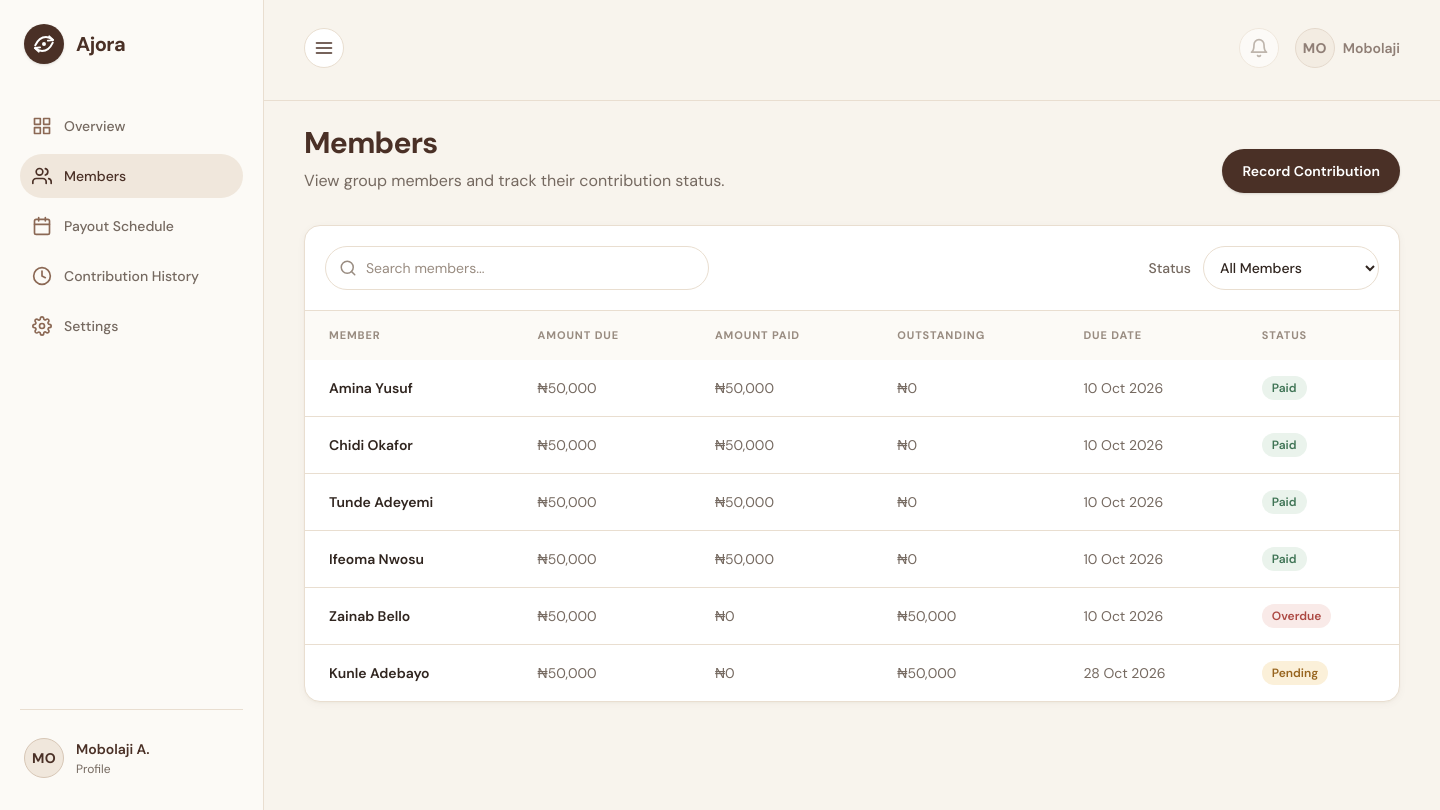
Test case: RecordContributionDialog keyboard accessibility › restores focus after the close button and successful contribution flow
This screenshot has width=1440, height=810.
Click the button "Record Contribution" at (1311, 171), box [1222, 149, 1400, 193]
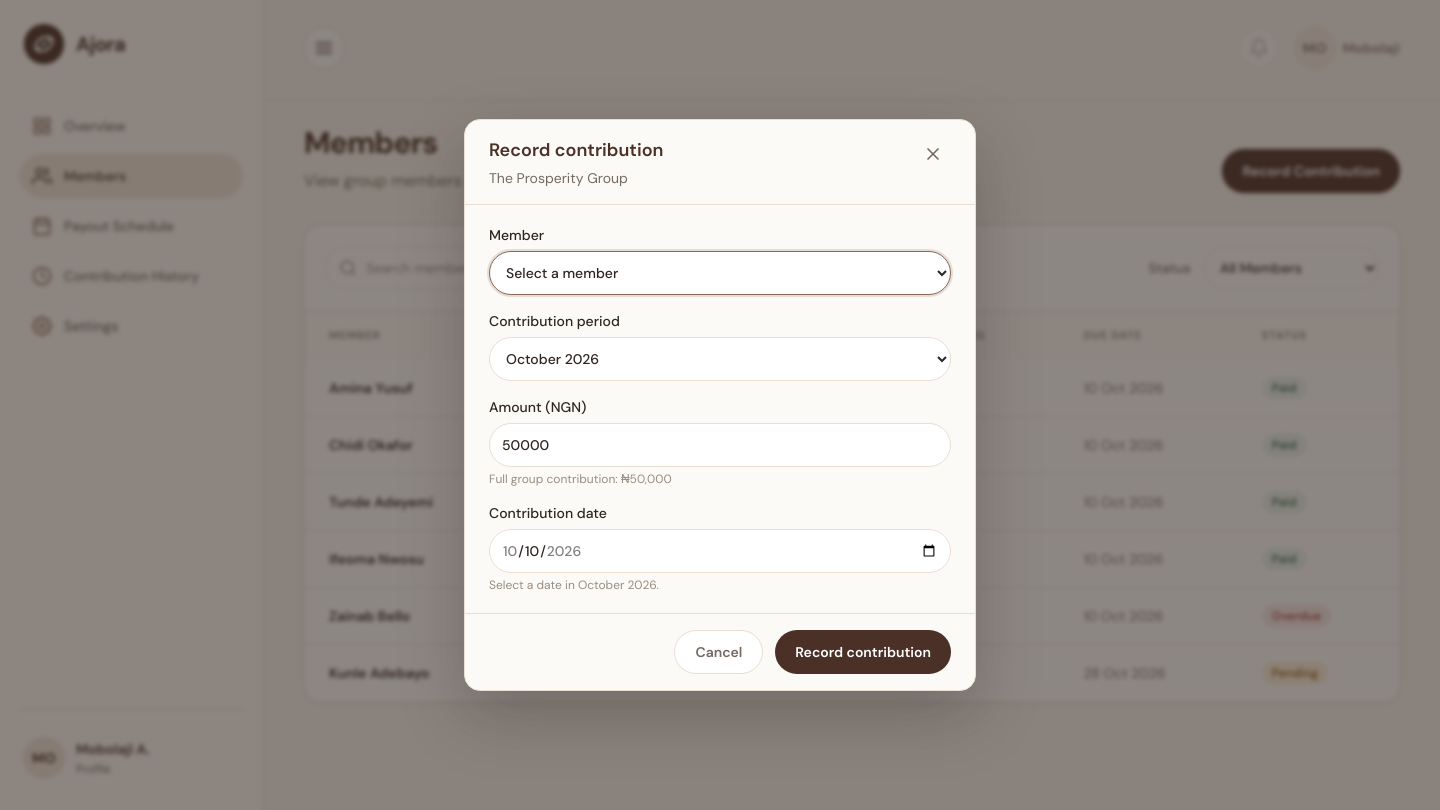
Click the button named "Close record contribution dialog" at (933, 154), box [915, 136, 951, 172]
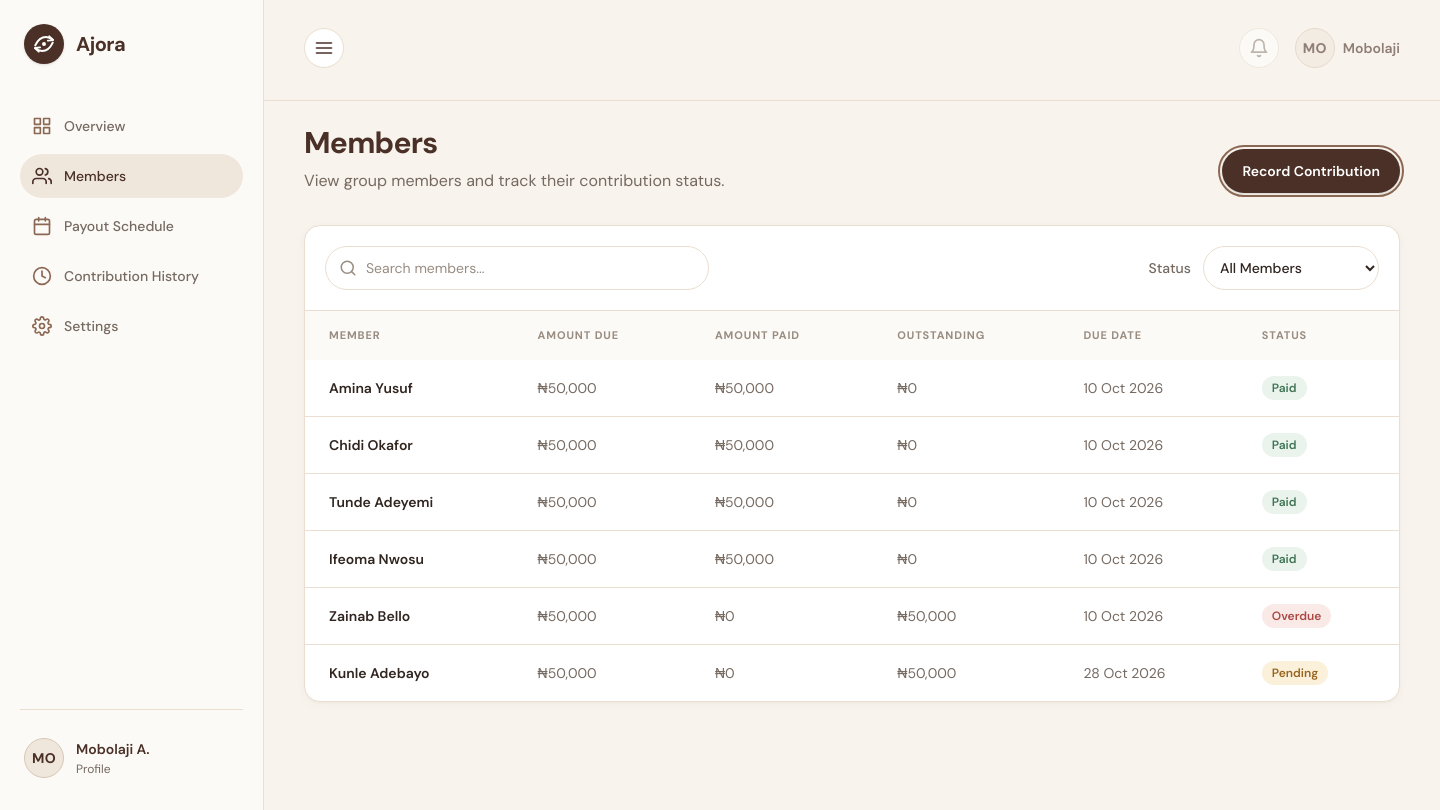
Click the button "Record Contribution" at (1311, 171), box [1222, 149, 1400, 193]
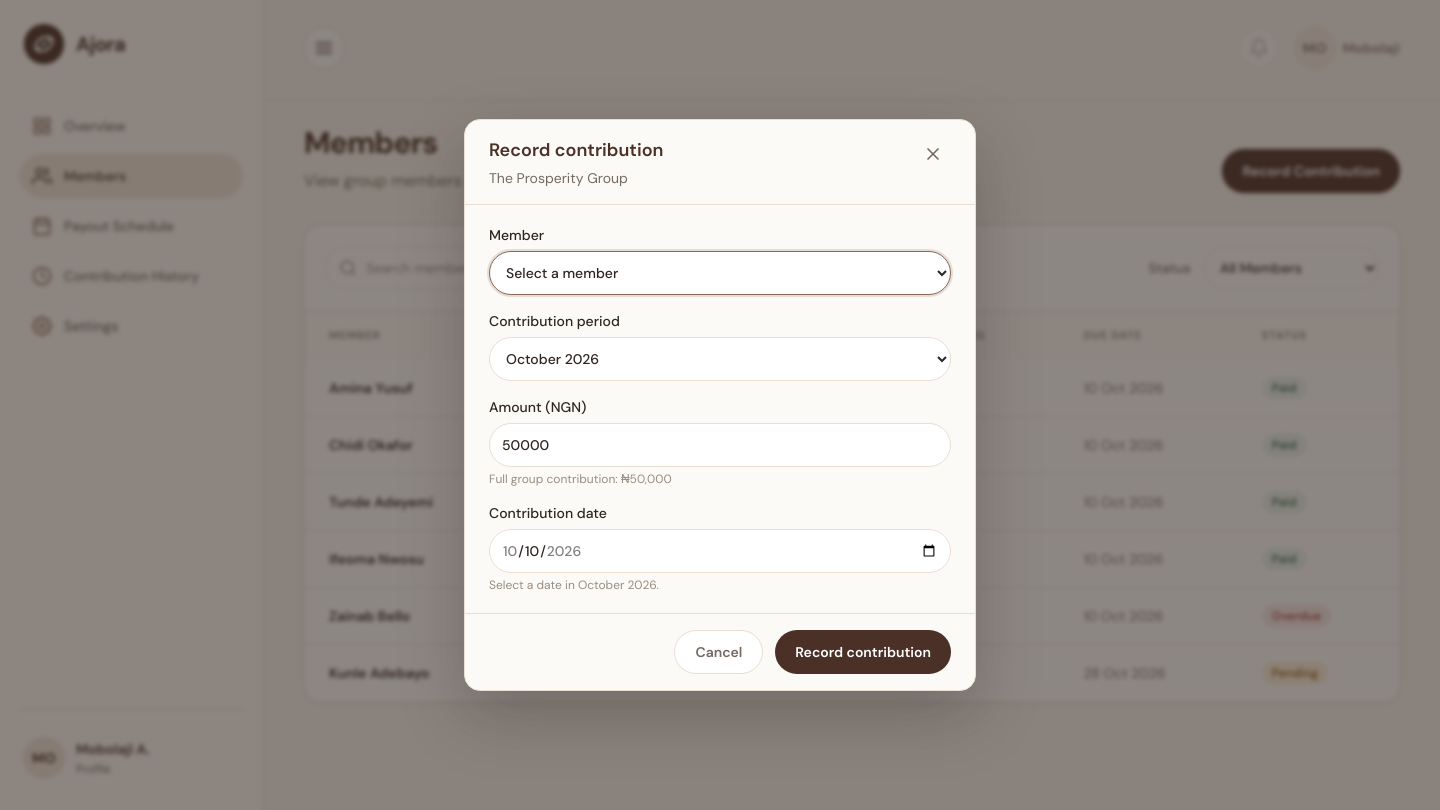
Select "Kunle Adebayo" in the dropdown labelled "Member" at (720, 273), box [489, 251, 951, 295]
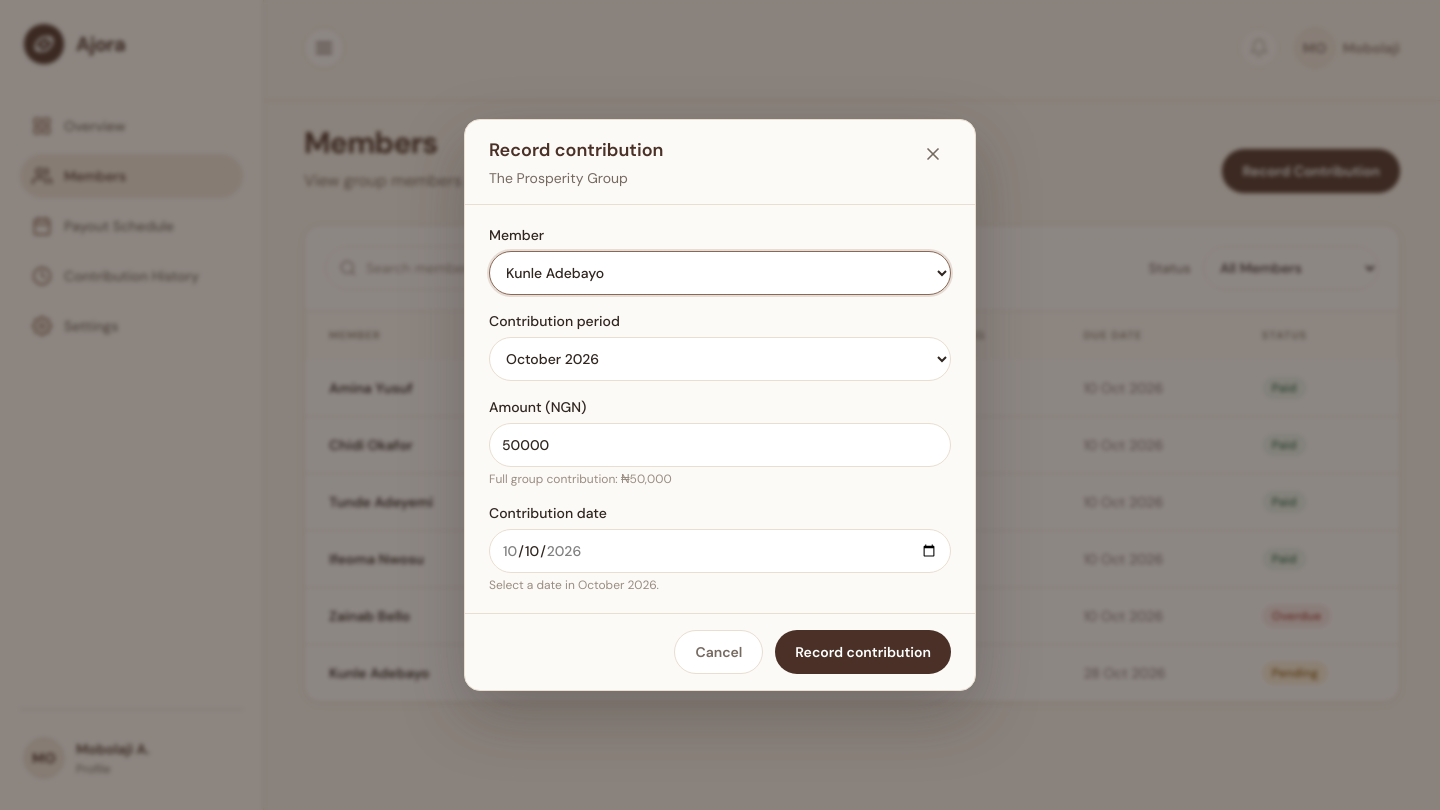
Click the button "Record contribution" at (863, 652), box [775, 630, 951, 674]
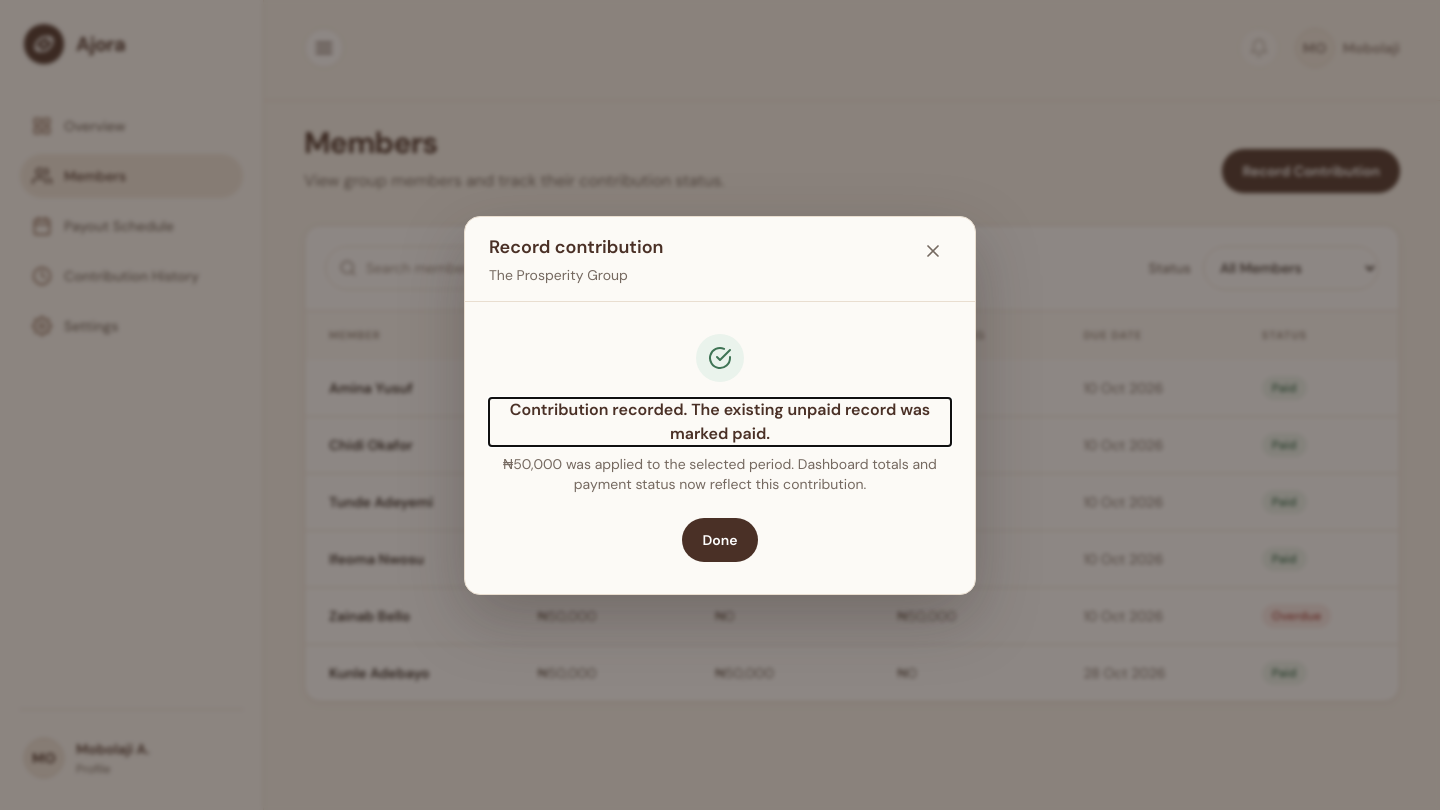
Check: the dialog "Record contribution" is shown, box [464, 216, 976, 594]
Click the button "Done" at (720, 540), box [682, 518, 758, 562]
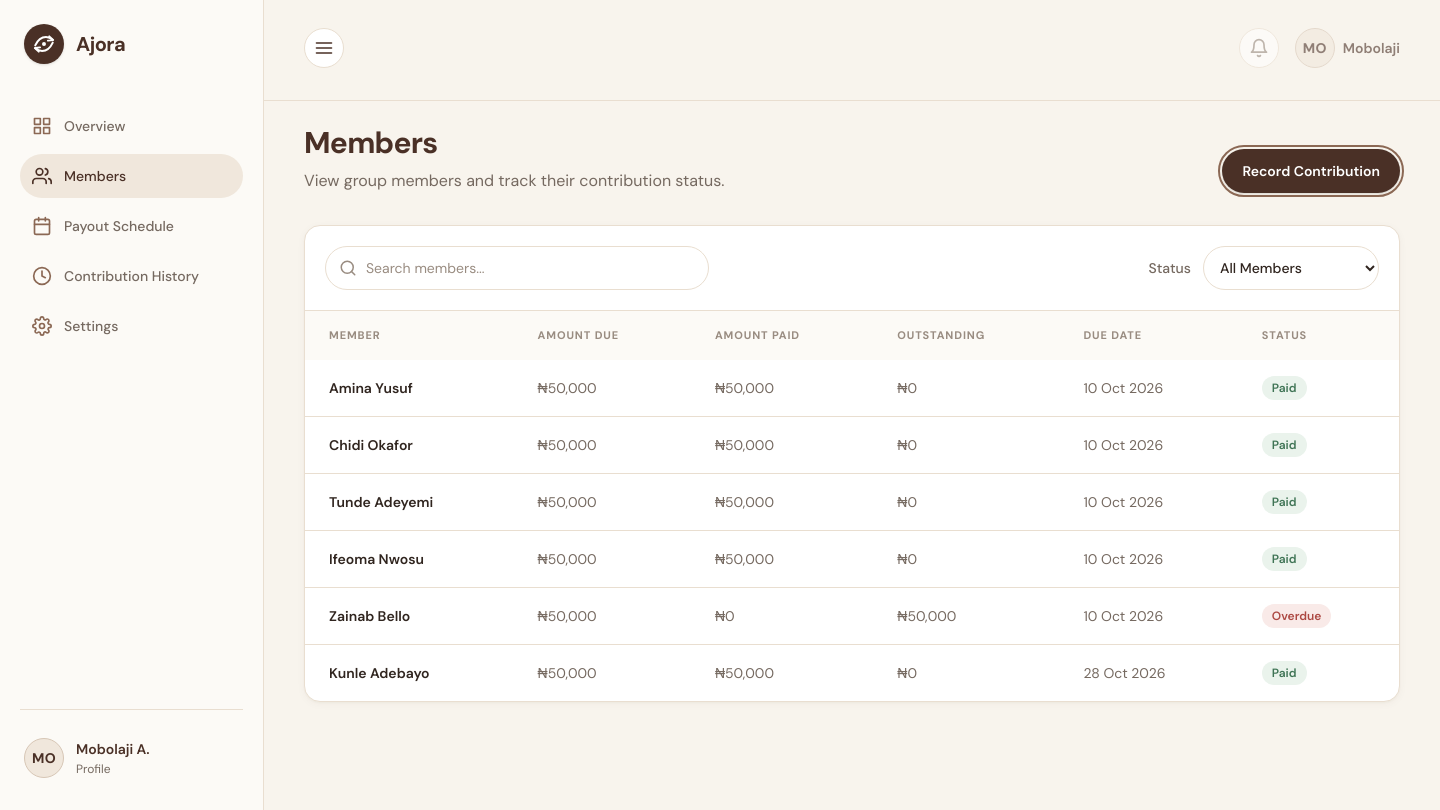
Check: the dialog is gone
